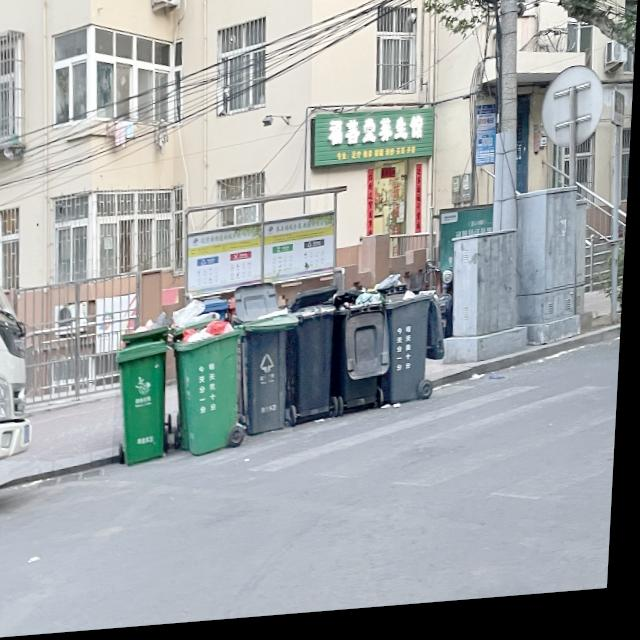garbage_bin: (116, 342, 171, 467)
overflow: (174, 321, 247, 461), (333, 293, 397, 417), (243, 311, 303, 440), (385, 293, 451, 408), (289, 308, 343, 422)
